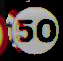Speed limit: (10, 3, 61, 56)
